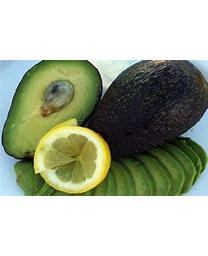avocado: (84, 60, 206, 166), (1, 60, 104, 162)
